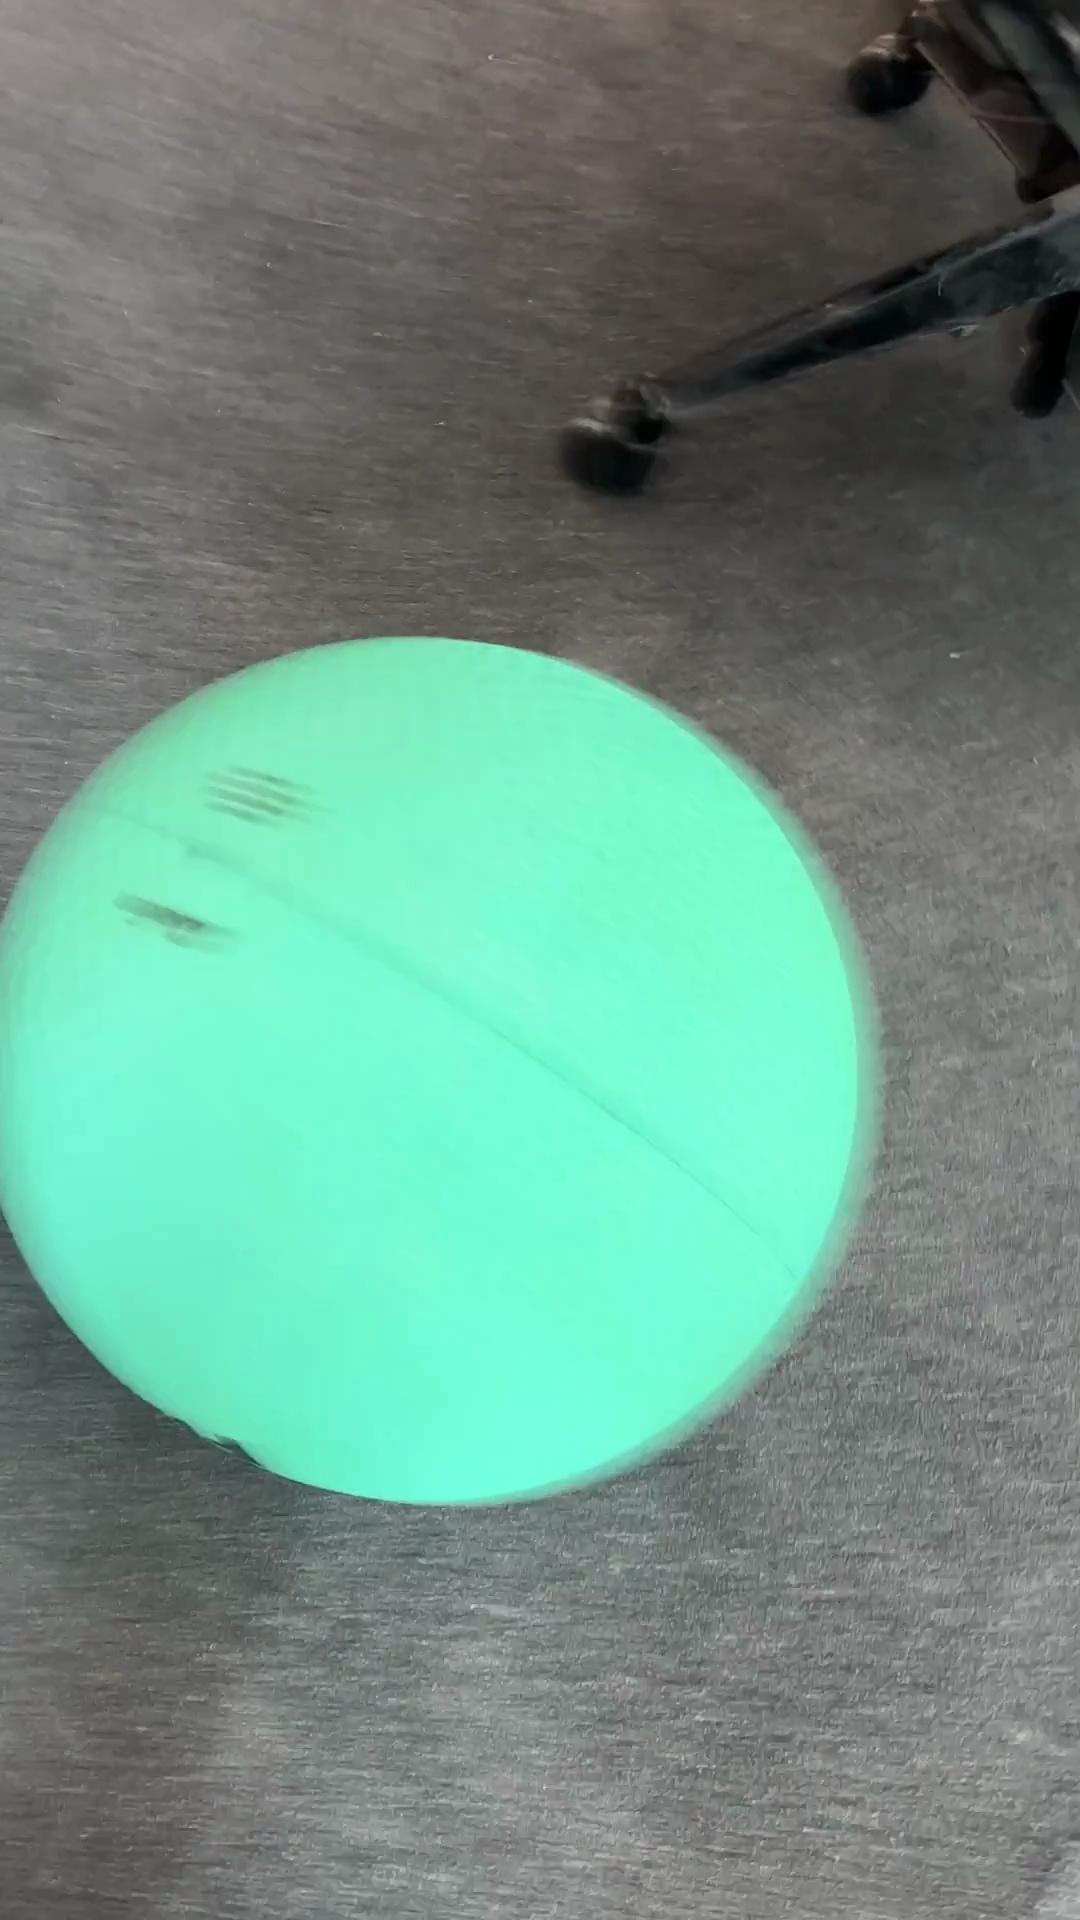ALGAE: (1, 630, 877, 1509)
